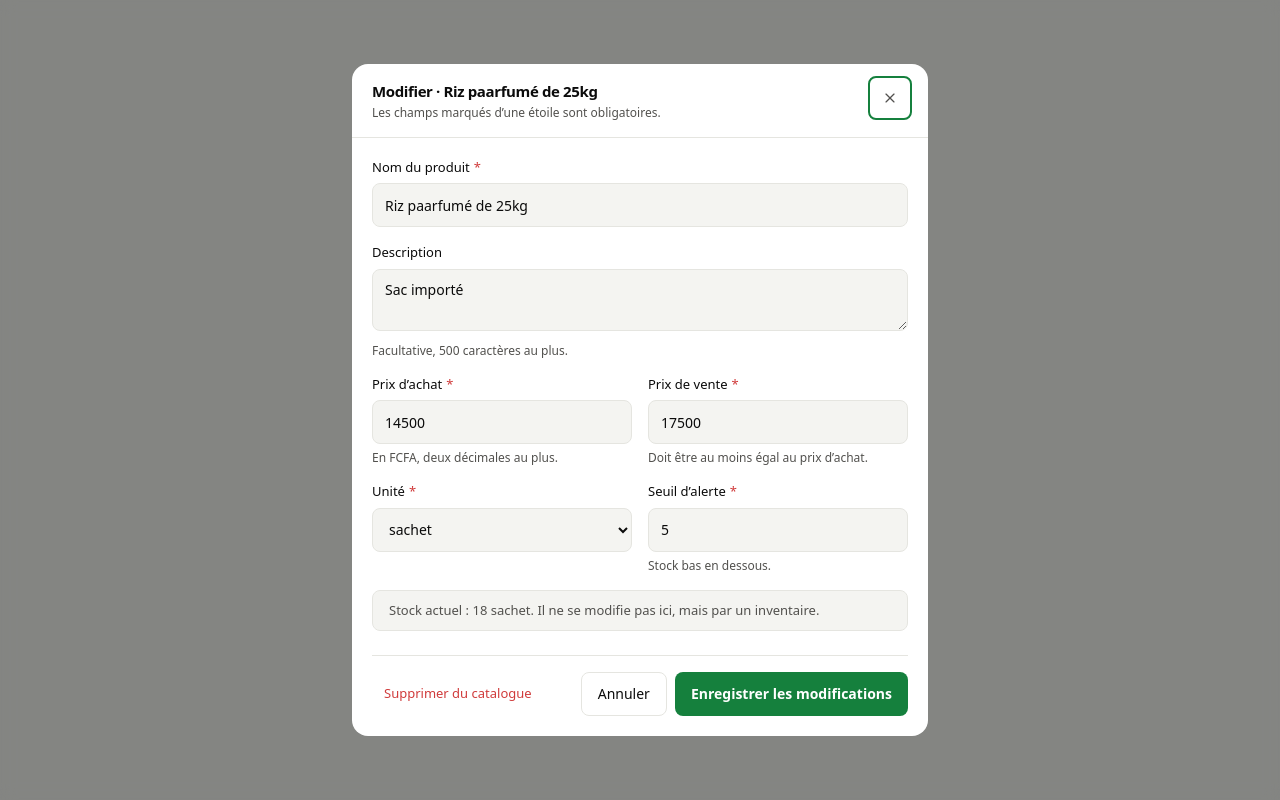
Test: modification d'un produit › refuse un prix de vente sous le prix d’achat sans appeler le serveur
Replace the text in the number field labelled "Prix de vente*" with "9000" at (778, 422), box [648, 400, 908, 444]
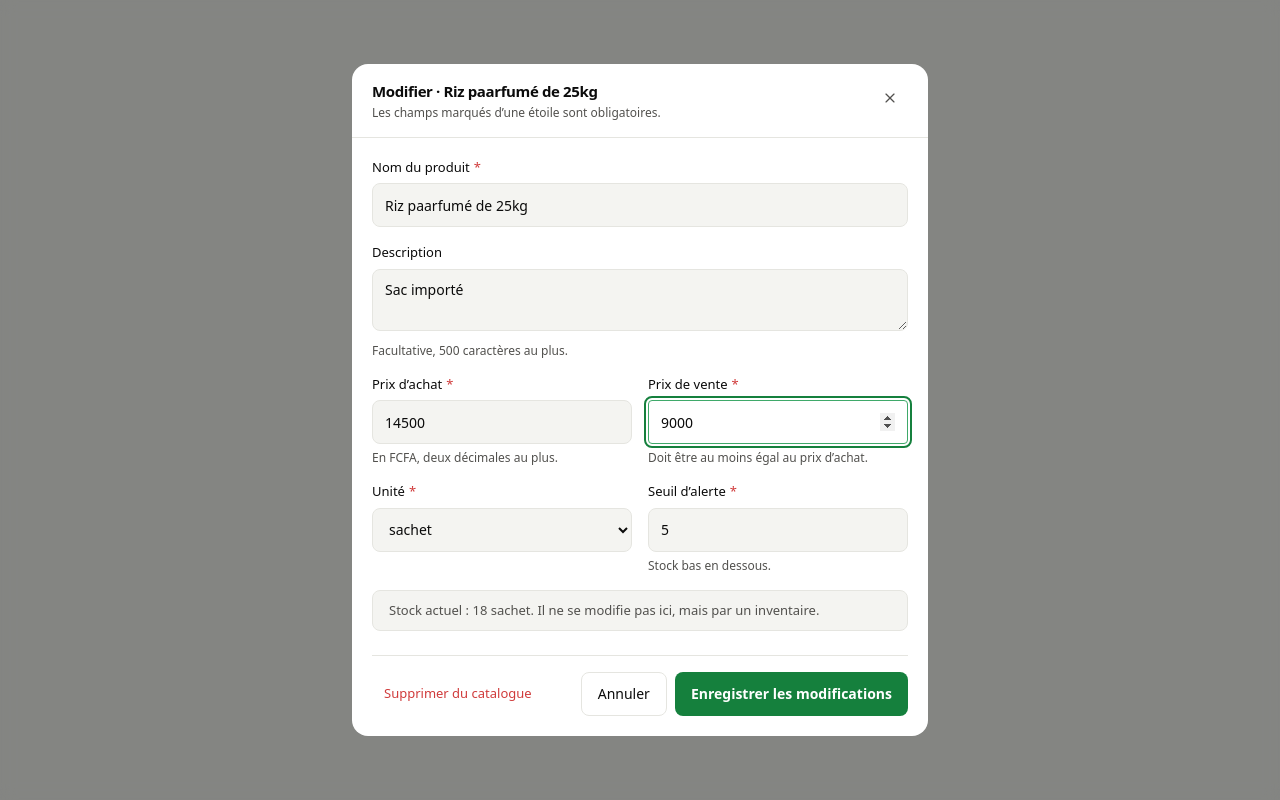
Click the button "Enregistrer les modifications".
click(791, 694)  # box [675, 672, 908, 716]
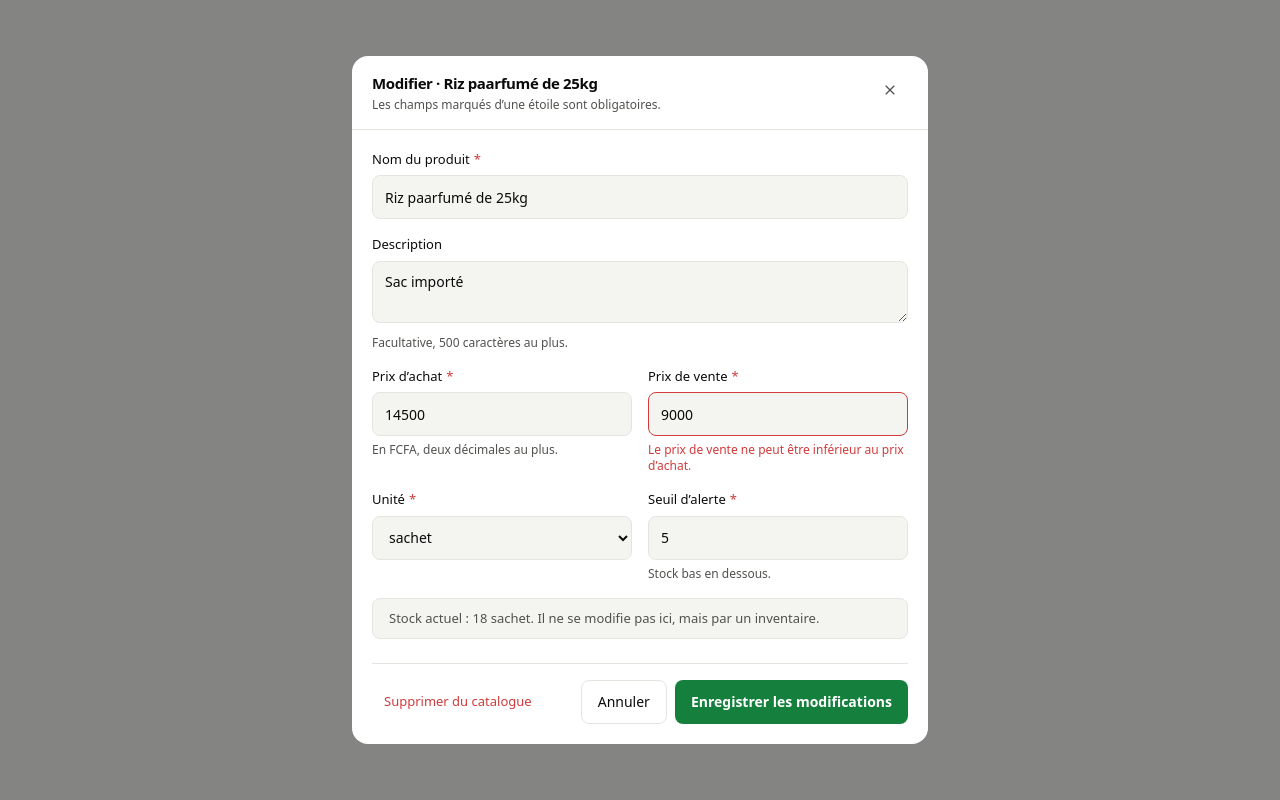
Now the text "Le prix de vente ne peut être inférieur au prix d’achat." is shown, box [648, 442, 908, 474]
